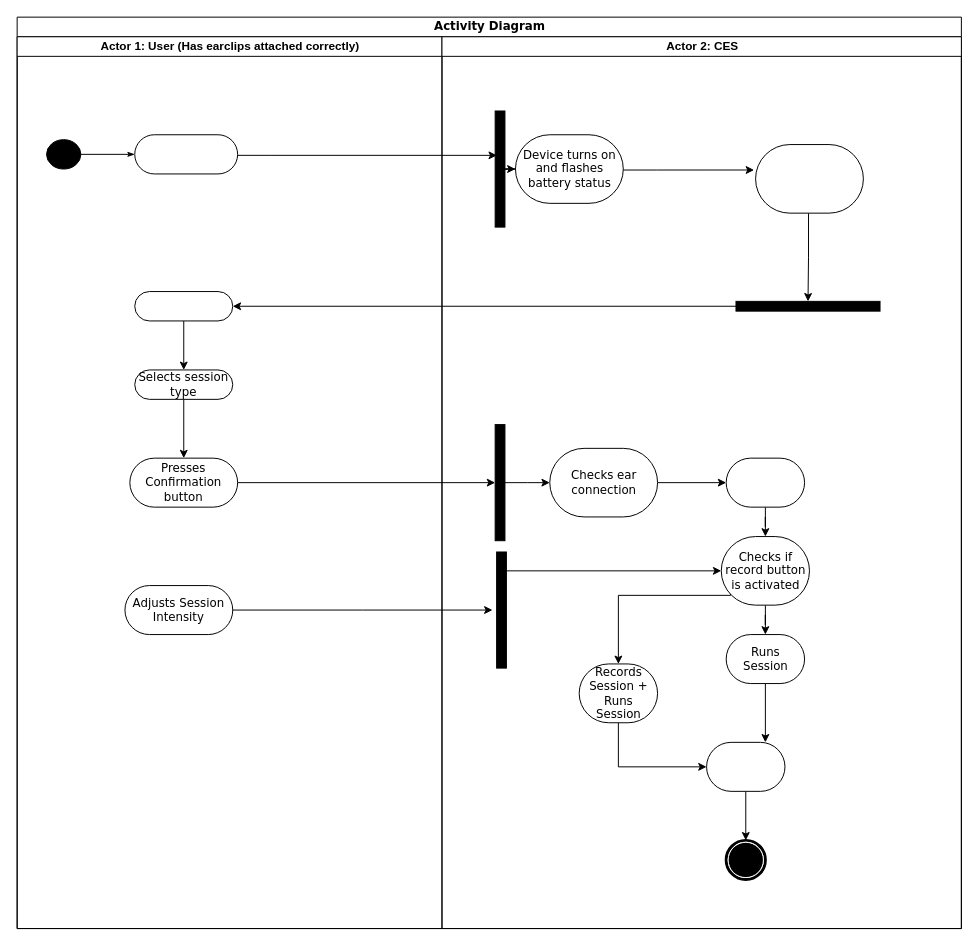
This 979x946 diagram has some shape labels left out. Each missing label, with the centre of its shape:
"Presses the power button" goes at point 186,154.
"Selects session length" goes at point 183,306.
"SoftOff" goes at point 745,766.
"Starts session" goes at point 765,482.
"Waits for session selection" goes at point 809,178.
